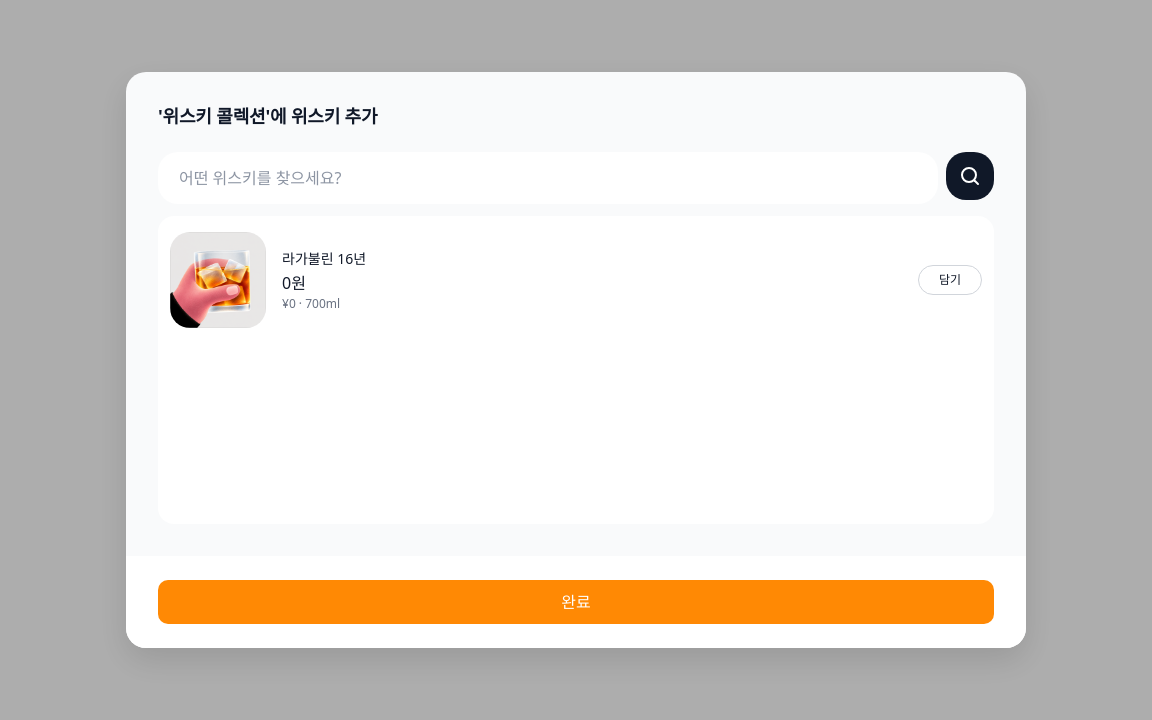
Test: AddPlannerItemModal 콜렉션 모드 › 담기를 누르면 그 위스키 하나만 바로 추가한다
Click the button "담기" at (950, 280), box [918,265,982,295]
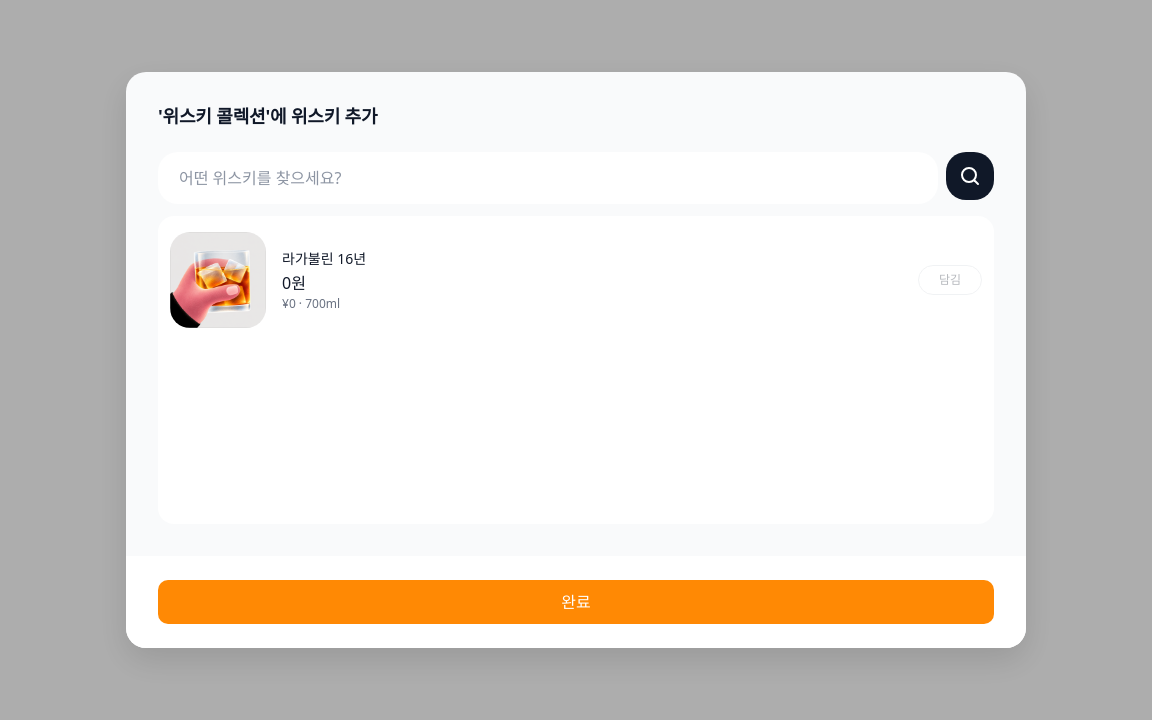
Expected: the button "담김" is disabled, [918,265,982,295]
